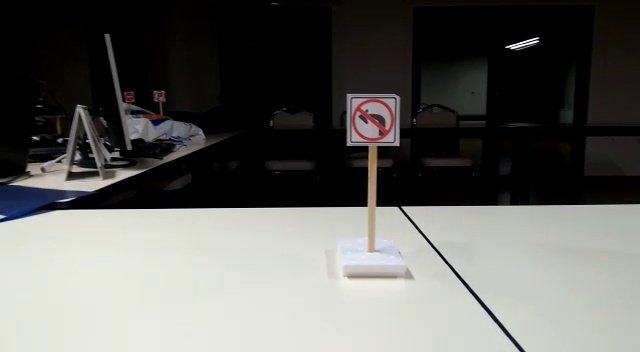sola_donulmez: (346, 93, 398, 148)
